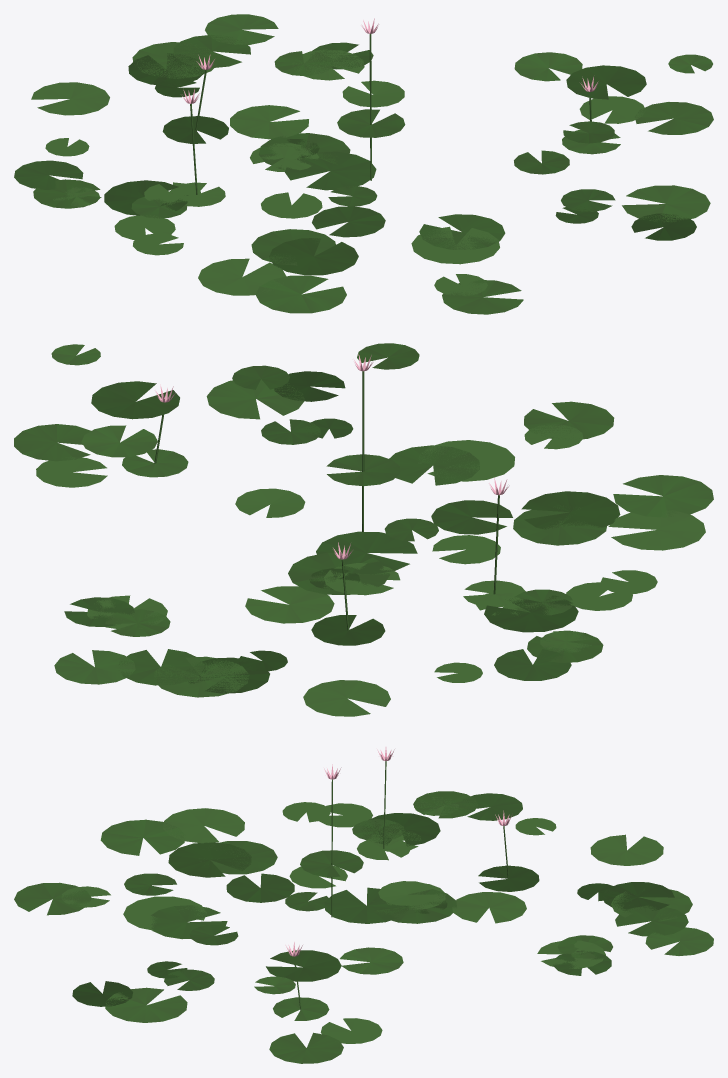
Rendered from lotus_2.glb.
3 views of the same model, one above another, from view 1: azimuth 30°, elevation 25°; view 2: azimuth 150°, elevation 25°; view 3: azimuth 270°, elevation 25° (orthographic). The views are drawn at different scales.
Visible parts, largest first — view 1: lotus_2; view 2: lotus_2; view 3: lotus_2.
Boxes of the visible parts, bbox=[...] form: lotus_2: bbox=[14, 14, 713, 314]; lotus_2: bbox=[14, 343, 713, 716]; lotus_2: bbox=[14, 747, 713, 1063].
Bounding box in the file's own units: 5.87 × 1.5 × 6.37.
